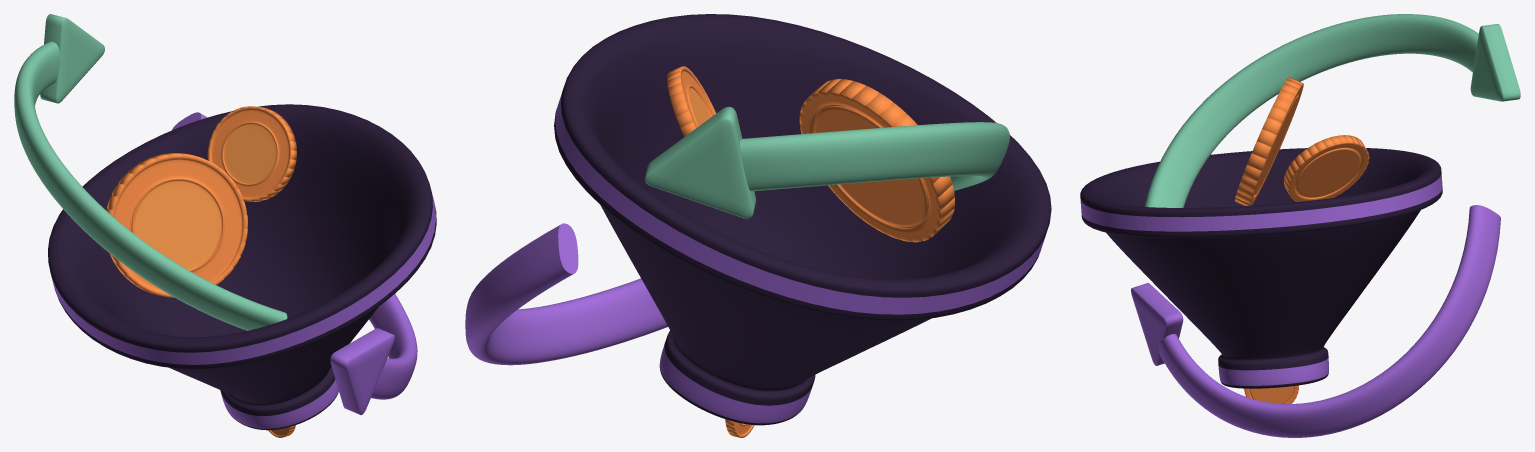
Rendered from currency-conversion-3d-animated-807883444127.glb.
The picture shows the model from 3 angles, left to right: view 1: azimuth 30°, elevation 25°; view 2: azimuth 150°, elevation 25°; view 3: azimuth 270°, elevation 25°; orthographic projection. The views are drawn at different scales.
Parts seen in each view (by area): view 1: Cube, Arrow 2, Coin 3, Arrow 1, Coin 4; view 2: Cube, Arrow 2, Arrow 1, Coin 3, Coin 4; view 3: Cube, Arrow 2, Arrow 1, Coin 4, Coin 3, Dollar Coin.
Part boxes in pixels (x1=…): Cube: x1=48, y1=104, x2=436, y2=430; Arrow 2: x1=14, y1=14, x2=287, y2=330; Coin 3: x1=106, y1=153, x2=247, y2=297; Arrow 1: x1=172, y1=112, x2=417, y2=414; Coin 4: x1=207, y1=106, x2=296, y2=201; Cube: x1=554, y1=14, x2=1051, y2=425; Arrow 2: x1=645, y1=106, x2=1009, y2=218; Arrow 1: x1=465, y1=223, x2=668, y2=365; Coin 3: x1=799, y1=79, x2=955, y2=242; Coin 4: x1=667, y1=66, x2=716, y2=136; Cube: x1=1080, y1=148, x2=1442, y2=388; Arrow 2: x1=1145, y1=14, x2=1520, y2=231; Arrow 1: x1=1131, y1=205, x2=1500, y2=437; Coin 4: x1=1283, y1=135, x2=1369, y2=201; Coin 3: x1=1235, y1=77, x2=1303, y2=205; Dollar Coin: x1=1244, y1=385, x2=1298, y2=403.
Size of what is drawn, in the model's own units: 1.53 by 1.47 by 1.73.
